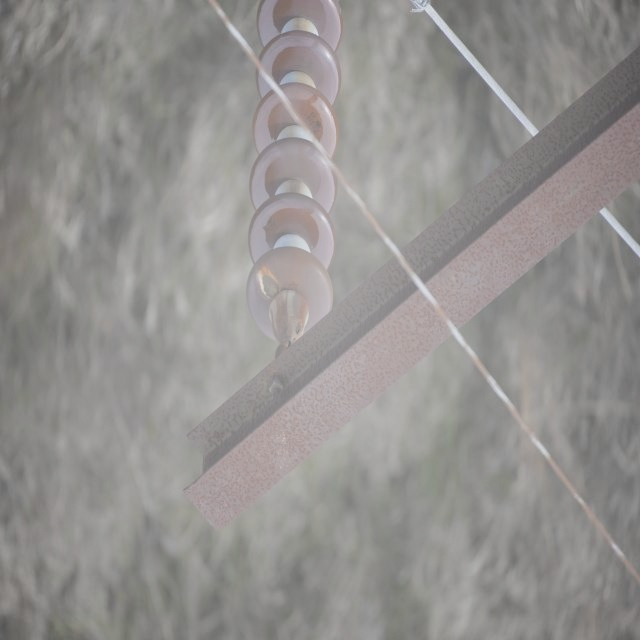insulator: (246, 0, 343, 348)
